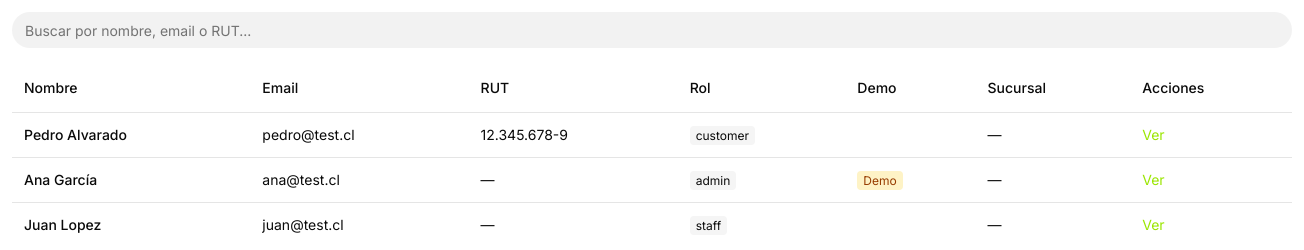
UsersListClient › shows empty state when no rows match
The width and height of the screenshot is (1304, 250).
Type "nonexistent-xyz" into the field at (652, 30), box left=12, top=12, right=1292, bottom=48
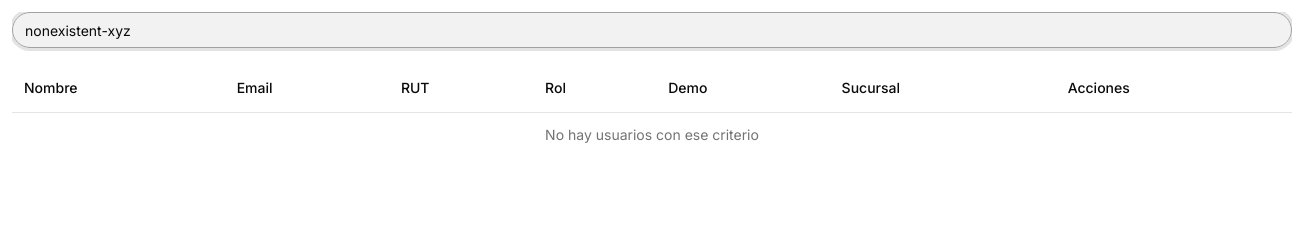
expect the text "No hay usuarios con ese criterio" is shown: met, box left=12, top=112, right=1292, bottom=156
